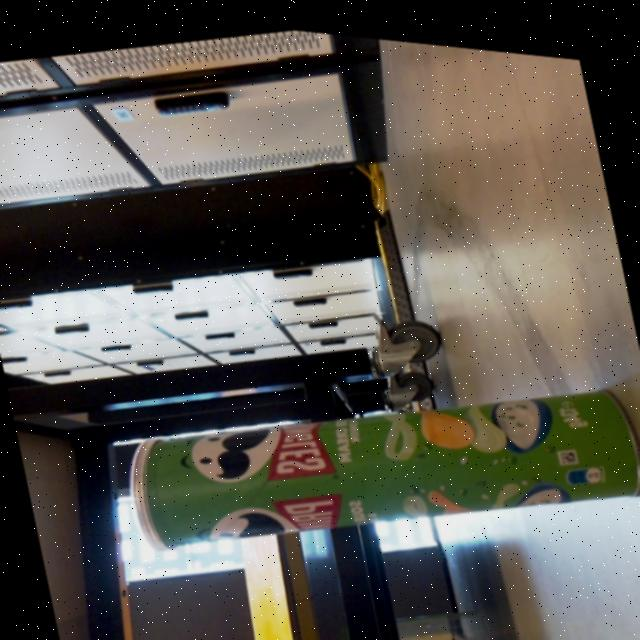greenpringles: (107, 305, 640, 617)
